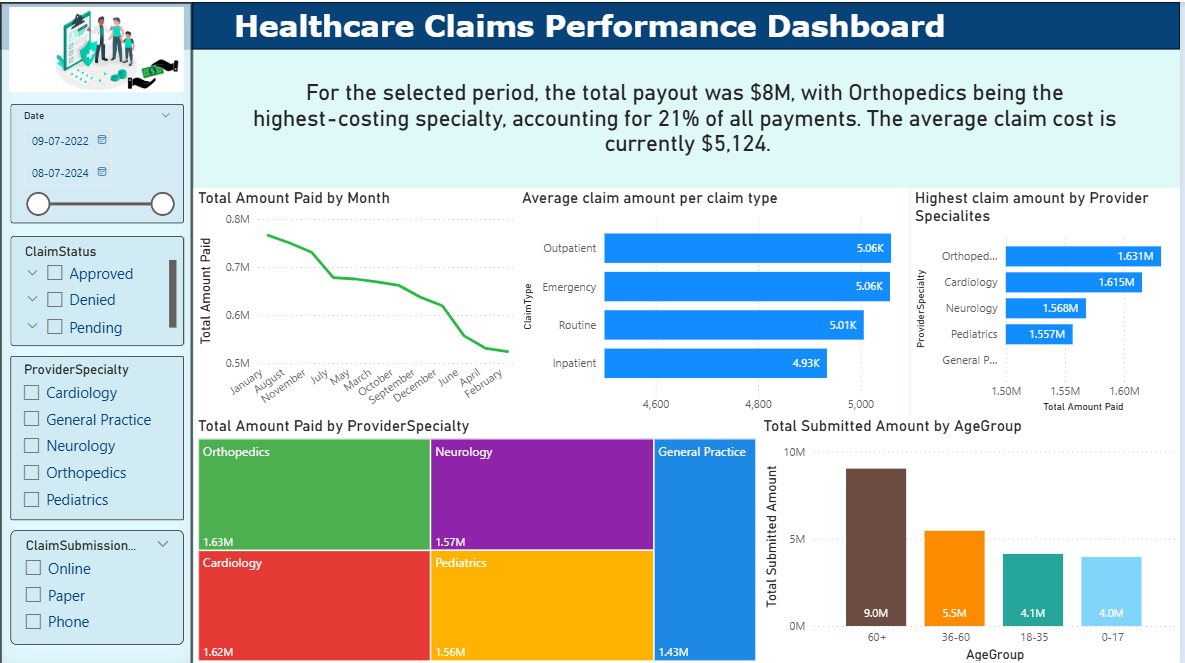

The page's visual inventory and layout, read from the dashboard file:
{"tool":"powerbi","page":{"name":"Financial & Provider Deep Dive","canvas":[1280,720],"ordinal":1},"visuals":[{"type":"textbox","box":[0,0,1279.4,51.5],"z":0},{"type":"shape","box":[0,0,209.1,719.8],"z":1000},{"type":"image","box":[0,0,209.1,103.1],"z":2000},{"type":"slicer","fields":{"Values":["Dates.Date"]},"box":[10.7,110.9,187.7,129.4],"z":3000},{"type":"slicer","fields":{"Values":["enhanced_health_insurance_claims.ClaimStatus","enhanced_health_insurance_claims.ClaimType"]},"box":[10.7,253.9,187.7,119.6],"z":4000},{"type":"slicer","fields":{"Values":["enhanced_health_insurance_claims.ProviderSpecialty"]},"box":[10.7,383.2,187.7,178],"z":5000},{"type":"slicer","fields":{"Values":["enhanced_health_insurance_claims.ClaimSubmissionMethod"]},"box":[10.7,571.9,187.7,124.5],"z":6000},{"type":"image","box":[133.3,45.7,65.2,65.2],"z":7000},{"type":"barChart","title":"Highest claim amount by Provider Specialites","fields":{"Y":["Measures (2).Total Amount Paid"],"Category":["enhanced_health_insurance_claims.ProviderSpecialty"]},"box":[986.6,202.3,293.4,247.4],"z":8000},{"type":"barChart","title":"Average claim amount per claim type","fields":{"Category":["enhanced_health_insurance_claims.ClaimType"],"Y":["Measures (2).Average Claim Amount"]},"box":[561.9,202.3,424.7,261.8],"z":9000},{"type":"lineChart","fields":{"Y":["Measures (2).Total Amount Paid"],"Category":["Dates.Month"]},"box":[209,202.3,354.8,270.4],"z":10000},{"type":"treemap","fields":{"Values":["Measures (2).Total Amount Paid"],"Group":["enhanced_health_insurance_claims.ProviderSpecialty"]},"box":[209,449.7,614.6,270.4],"z":11000},{"type":"clusteredColumnChart","fields":{"Category":["enhanced_health_insurance_claims.AgeGroup"],"Y":["Measures (2).Total Submitted Amount"]},"box":[823.6,449.7,456.4,270.4],"z":12000},{"type":"card","fields":{"Values":["Measures (2).Smart Narrative Text"]},"box":[209,46,1071,156.3],"z":13000}]}

Visuals, with their boxes in screenshot pixels (x1, y1, x2, y2), scaled from the page's 1280x720 canvas onto the 1185x663 screenshot:
textbox: [left=0, top=0, right=1184, bottom=47]
shape: [left=0, top=0, right=194, bottom=662]
image: [left=0, top=0, right=194, bottom=95]
slicer - Dates.Date: [left=10, top=102, right=184, bottom=221]
slicer - enhanced_health_insurance_claims.ClaimStatus x enhanced_health_insurance_claims.ClaimType: [left=10, top=234, right=184, bottom=344]
slicer - enhanced_health_insurance_claims.ProviderSpecialty: [left=10, top=353, right=184, bottom=517]
slicer - enhanced_health_insurance_claims.ClaimSubmissionMethod: [left=10, top=527, right=184, bottom=641]
image: [left=123, top=42, right=184, bottom=102]
"Highest claim amount by Provider Specialites" barChart: [left=913, top=186, right=1184, bottom=414]
"Average claim amount per claim type" barChart: [left=520, top=186, right=913, bottom=427]
lineChart - Measures (2).Total Amount Paid x Dates.Month: [left=193, top=186, right=522, bottom=435]
treemap - Measures (2).Total Amount Paid x enhanced_health_insurance_claims.ProviderSpecialty: [left=193, top=414, right=762, bottom=662]
clusteredColumnChart - enhanced_health_insurance_claims.AgeGroup x Measures (2).Total Submitted Amount: [left=762, top=414, right=1184, bottom=662]
card - Measures (2).Smart Narrative Text: [left=193, top=42, right=1184, bottom=186]
